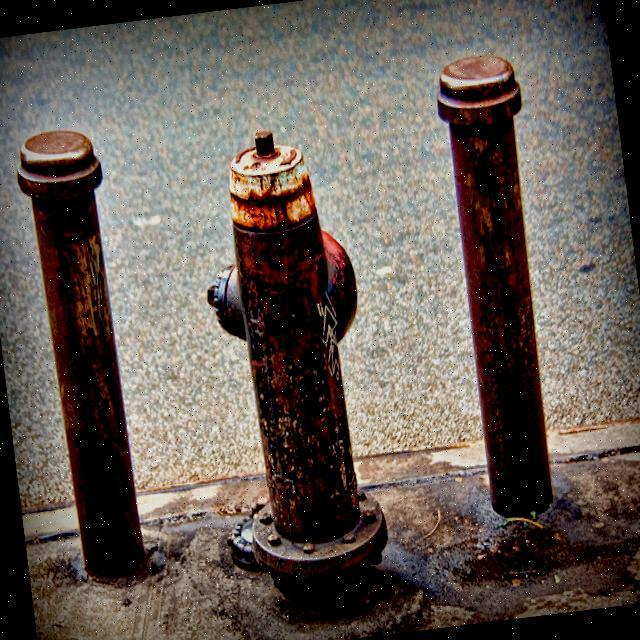fire_hydrant: (176, 108, 398, 610)
